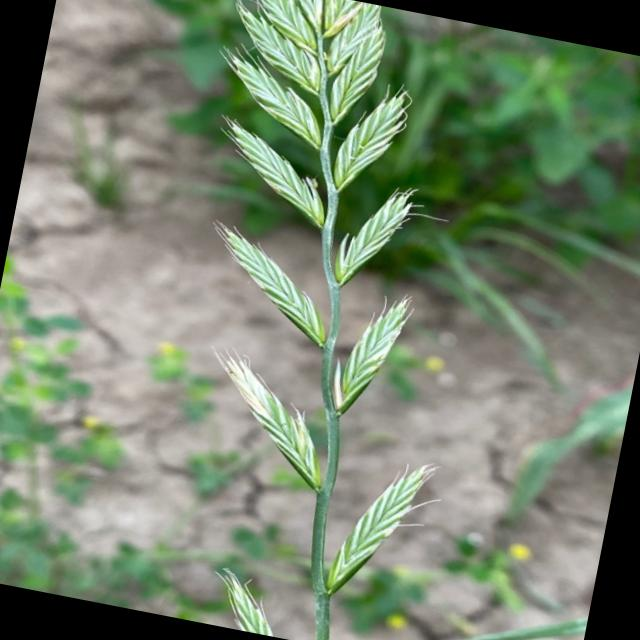Lolium: (107, 0, 532, 640)
